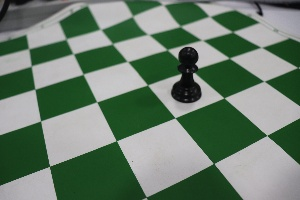black_pawn: (161, 36, 206, 111)
